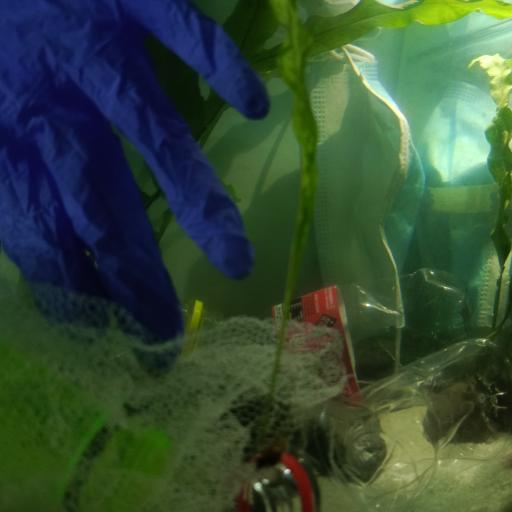glove: (0, 0, 273, 370)
mask: (301, 39, 424, 352)
net: (2, 279, 356, 512)
plastic_bottle: (233, 339, 512, 512), (3, 343, 162, 511), (257, 268, 476, 378), (164, 286, 212, 353)
